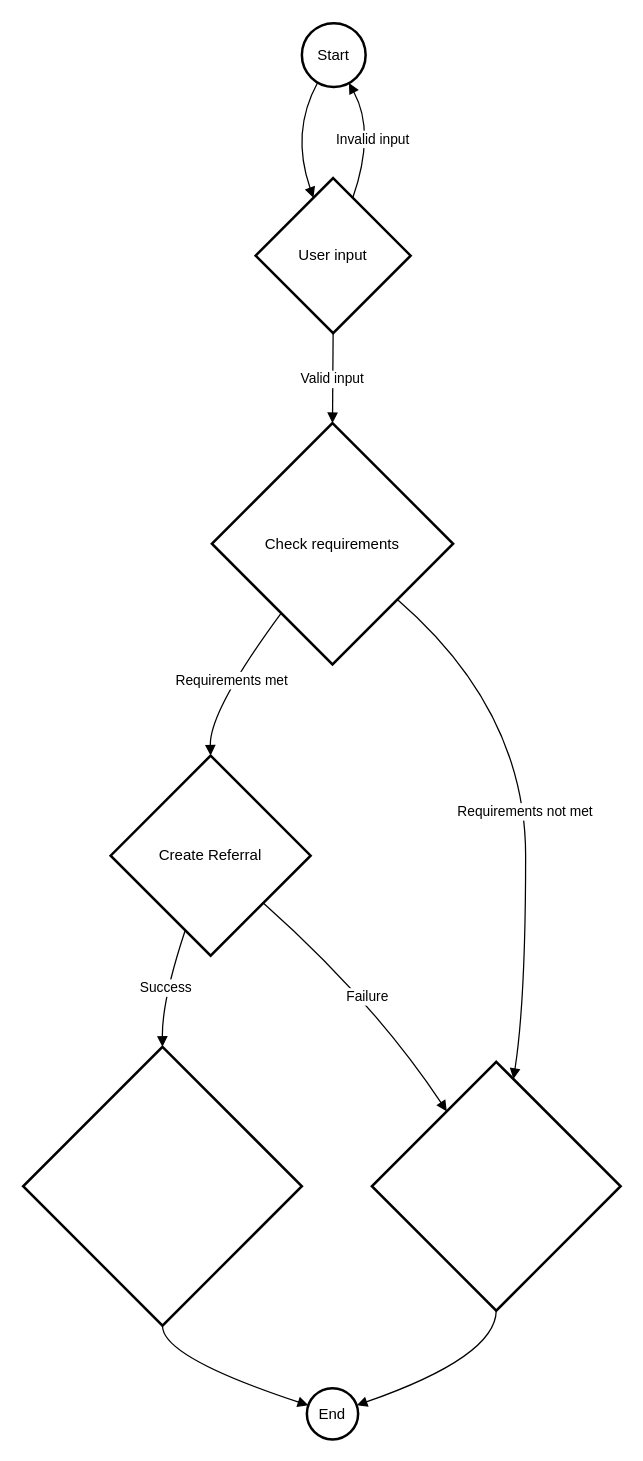
Some shapes in this 643 by 1461 pixel diagram are drawn without their labels. Here are the shapes that lost their labels. From the top down, the centre of each, then its label:
point (161, 1185): Display success message
point (495, 1185): Notify user of failure
